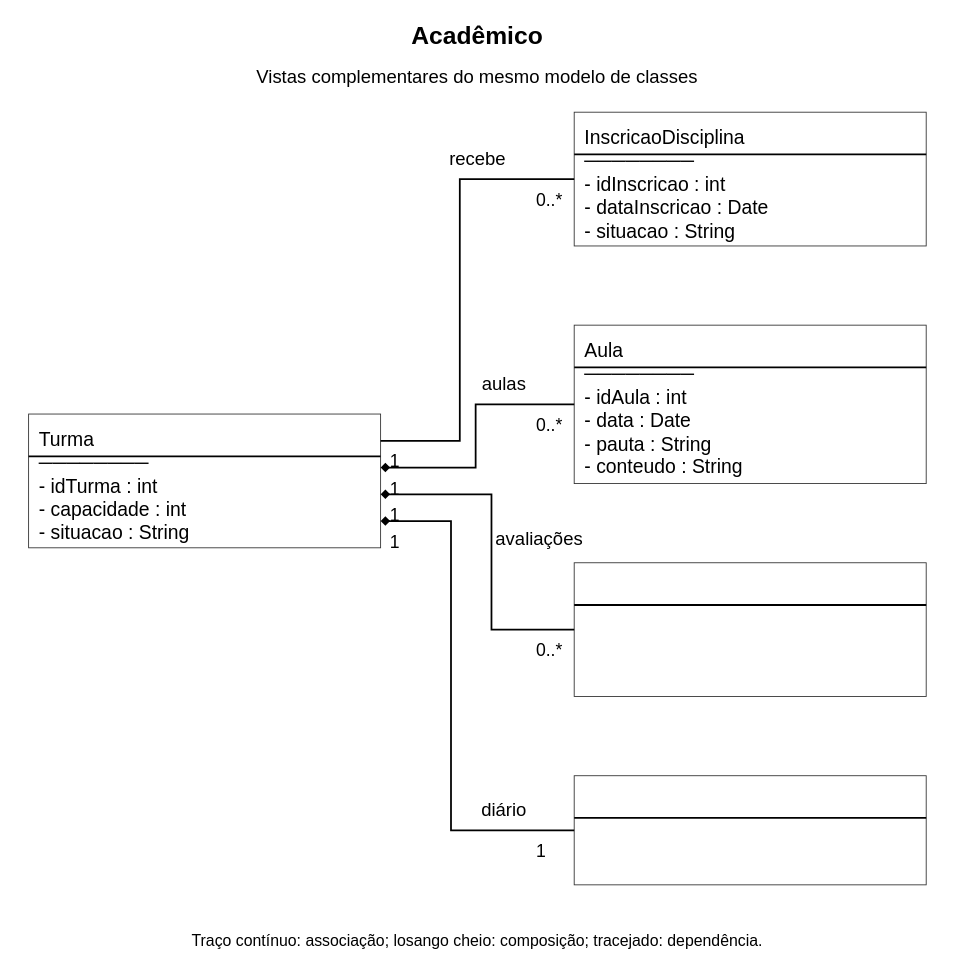
Some shapes in this 954 by 966 pixel diagram are drawn without their labels. Here are the shapes that lost their labels. From the top down, the box of each, then its label:
(573, 562, 926, 697): Avaliacao ──────── - idAvaliacao : int - descricao : String - data : Date
(573, 775, 926, 885): DiarioClasse ──────── - idDiario : int - situacao : String
